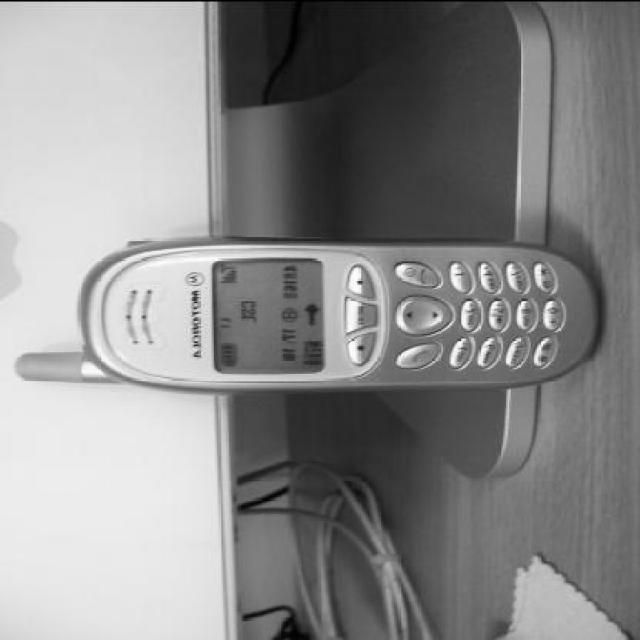fake: (12, 232, 600, 397)
